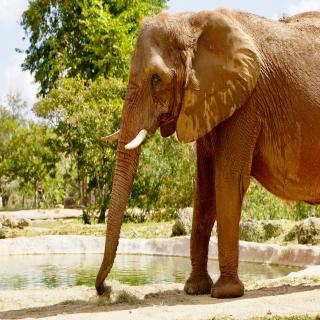Elephant: (94, 7, 320, 306)
